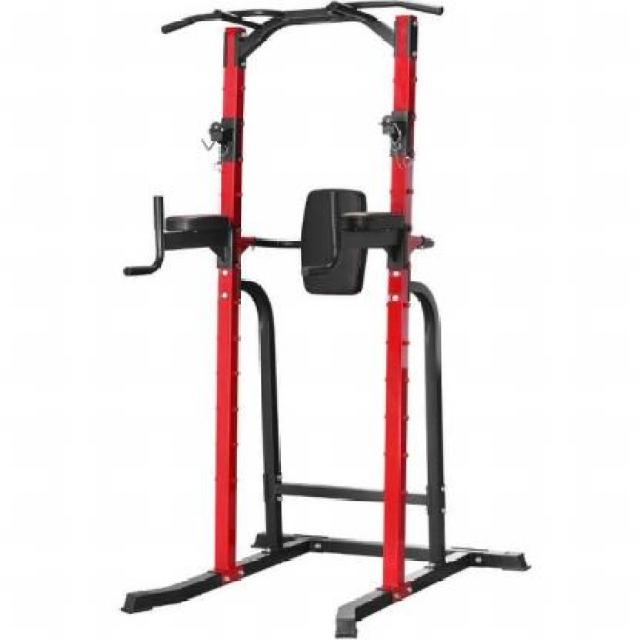chinning dipping: (126, 3, 525, 637)
